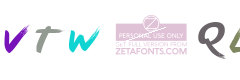6: (77, 0, 157, 80)
L: (159, 0, 239, 80)
Q: (105, 0, 185, 80)
T: (40, 0, 120, 80)
V: (0, 0, 80, 80)
W: (54, 0, 134, 80)
